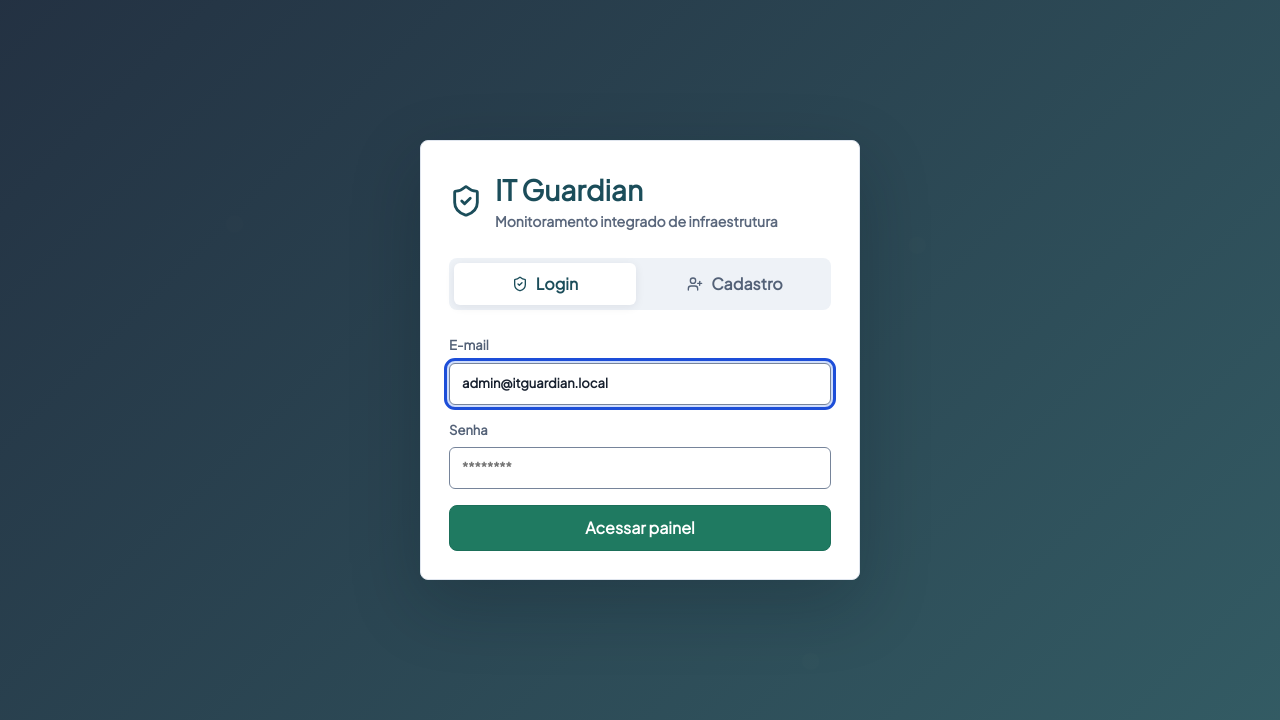
login simples › conta bloqueada mostra o aviso de tentativas
Replace the text in the field labelled "E-mail" with "ana@empresa.com" at (640, 384), box [449,362,831,404]
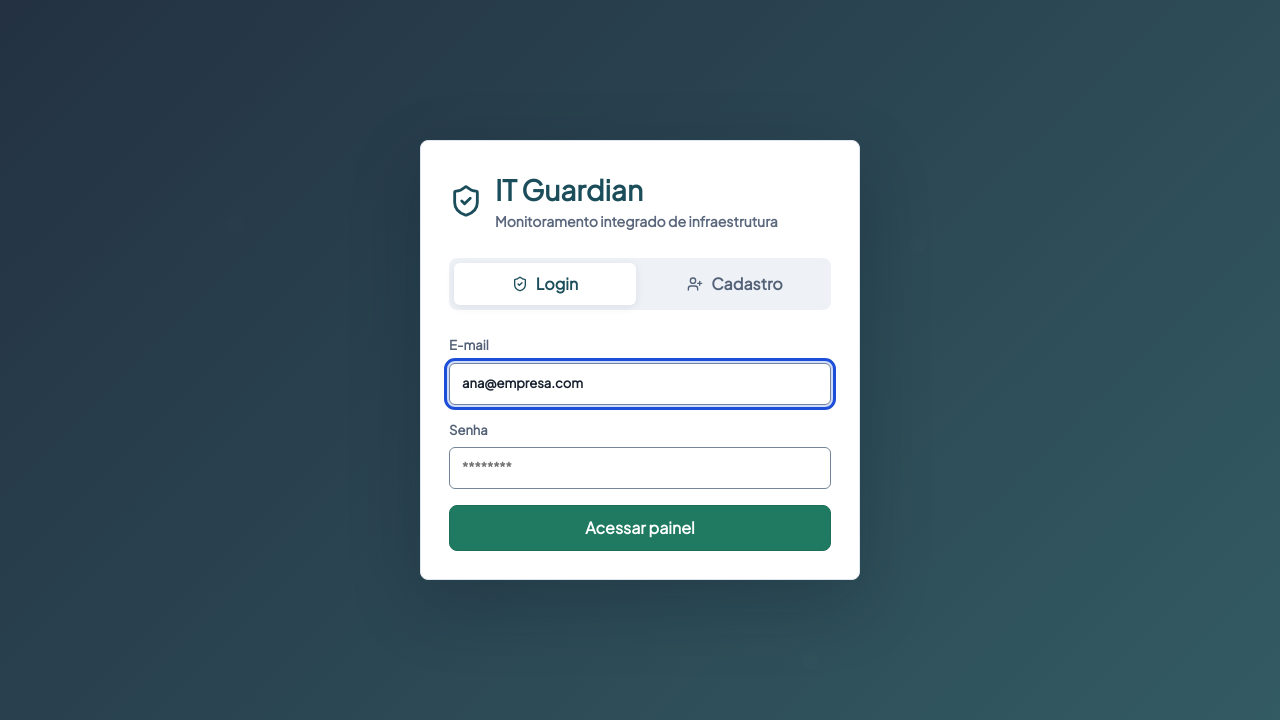
Type "senha-correta-123" into the password field labelled "Senha".
click(640, 468); type("senha-correta-123")  # box [449,447,831,489]
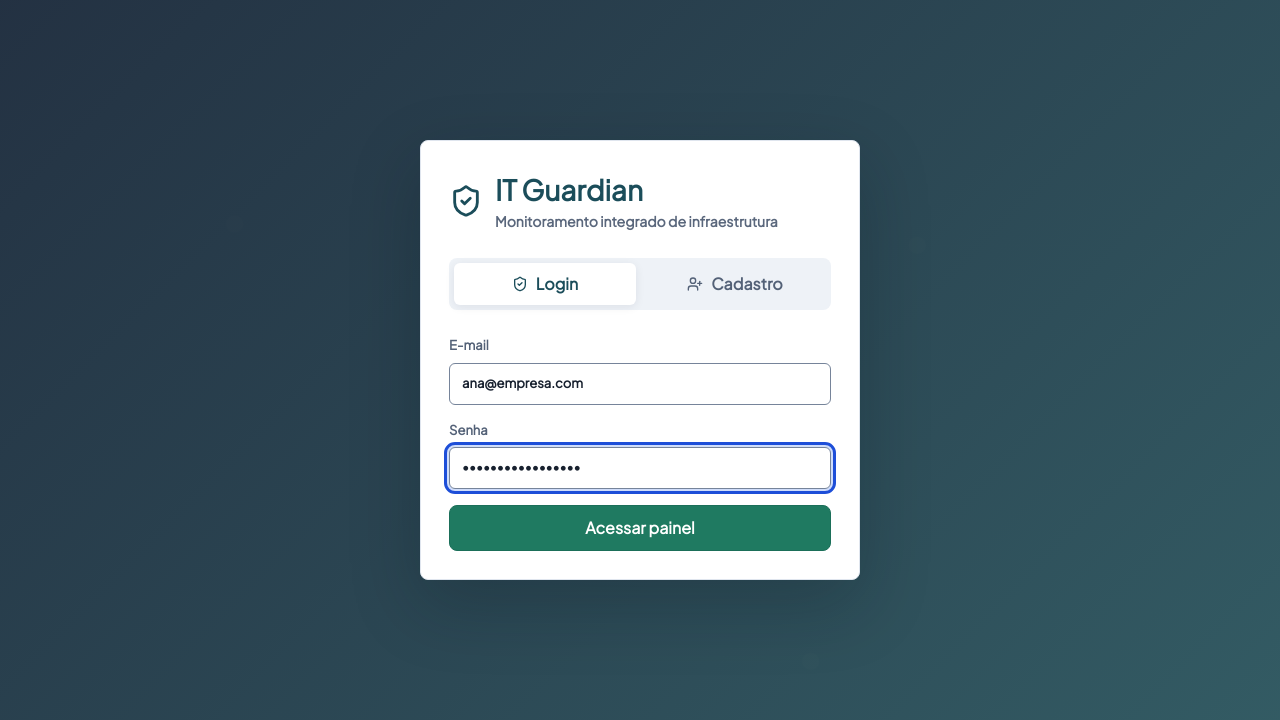
Click the button "Acessar painel".
click(640, 528)  # box [449,505,831,551]
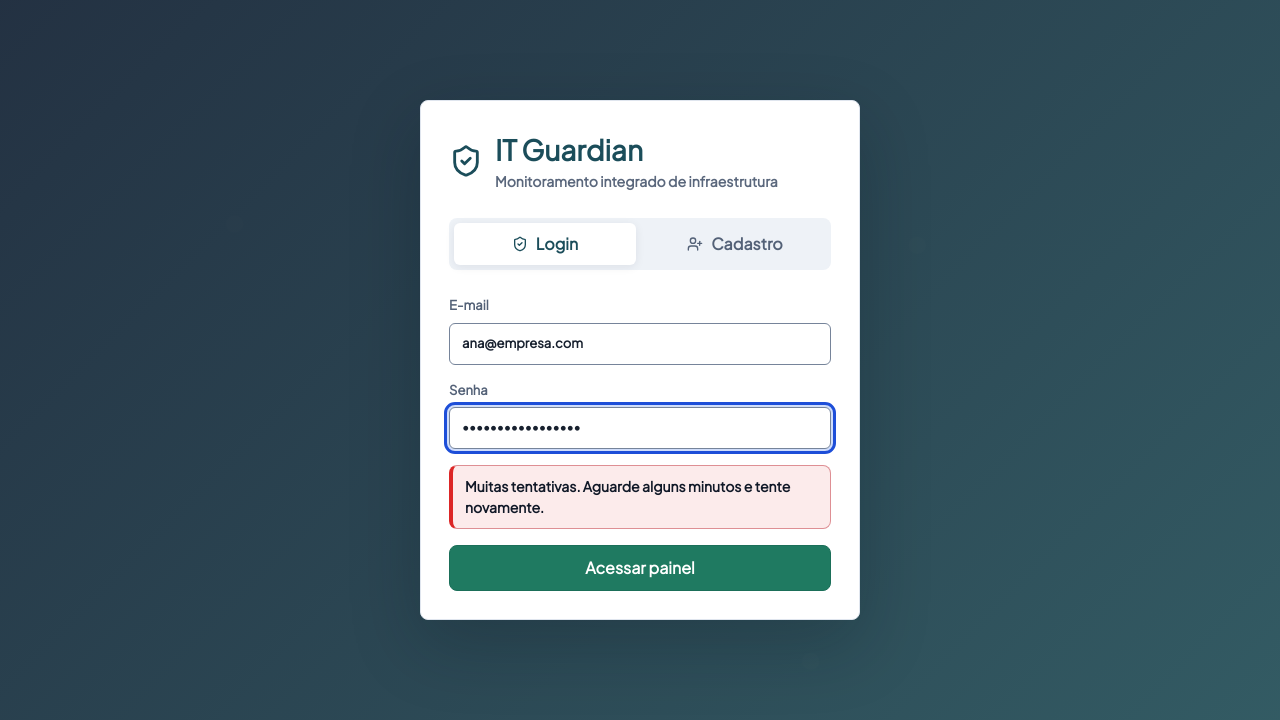
Check: the message shows "Muitas tentativas. Aguarde alguns minutos", box [465,477,790,516]
